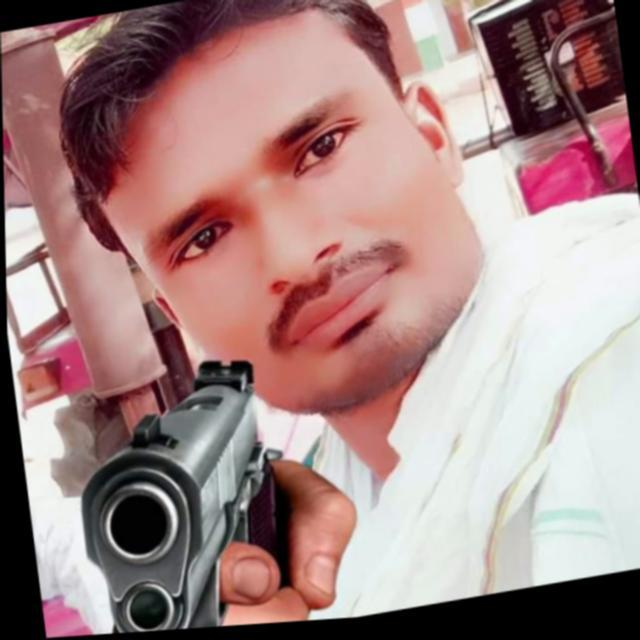weapon: (52, 342, 309, 638)
